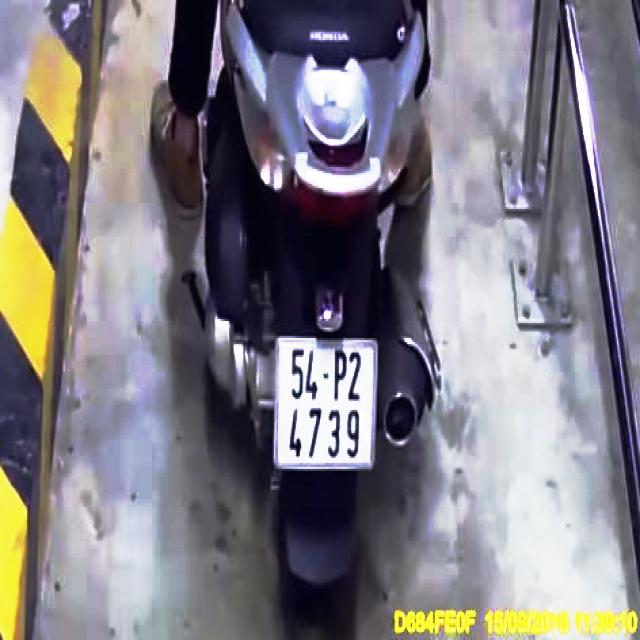license_plate: (278, 340, 375, 467)
